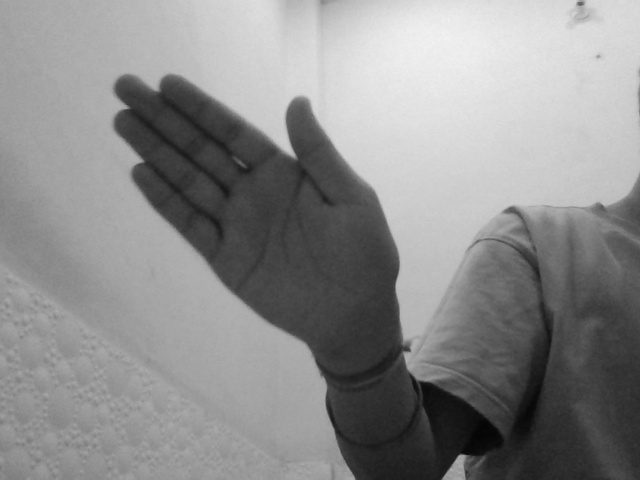Hello: (111, 70, 402, 344)
